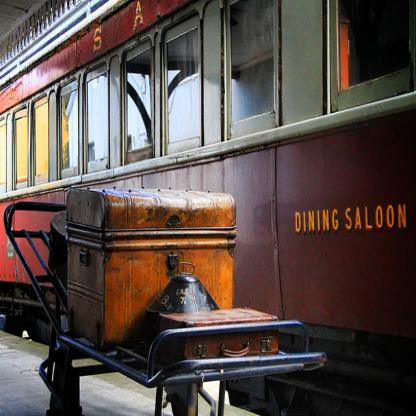suitcase: (65, 187, 236, 349), (158, 308, 279, 365), (48, 210, 68, 293)
